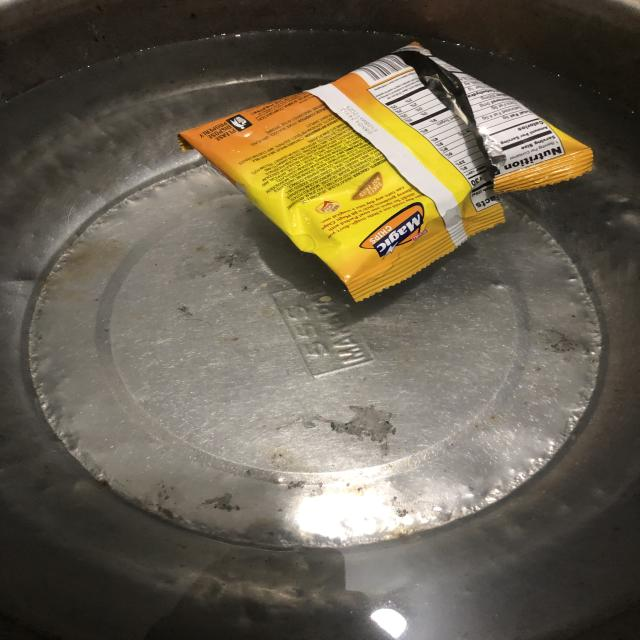Plastic Wrapper: (163, 25, 618, 319)
